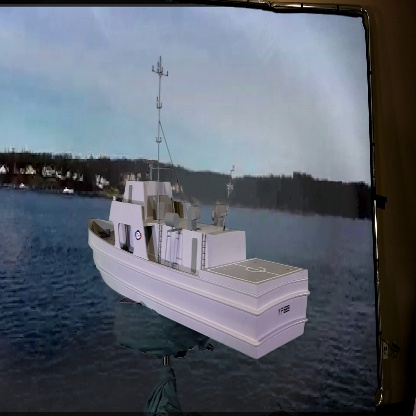YP689: (87, 58, 308, 359)
